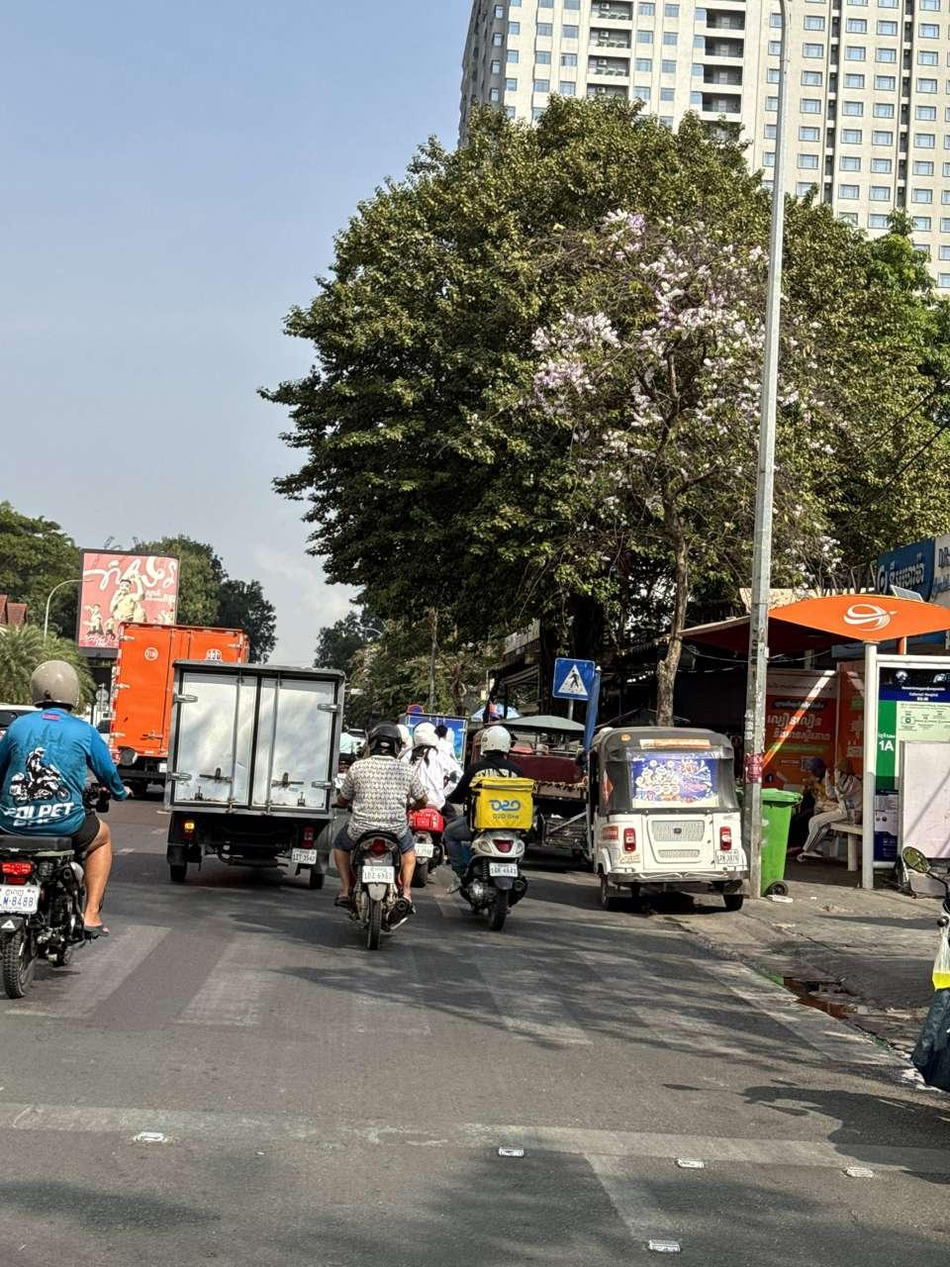pedestrian_crossing: (552, 657, 597, 701)
